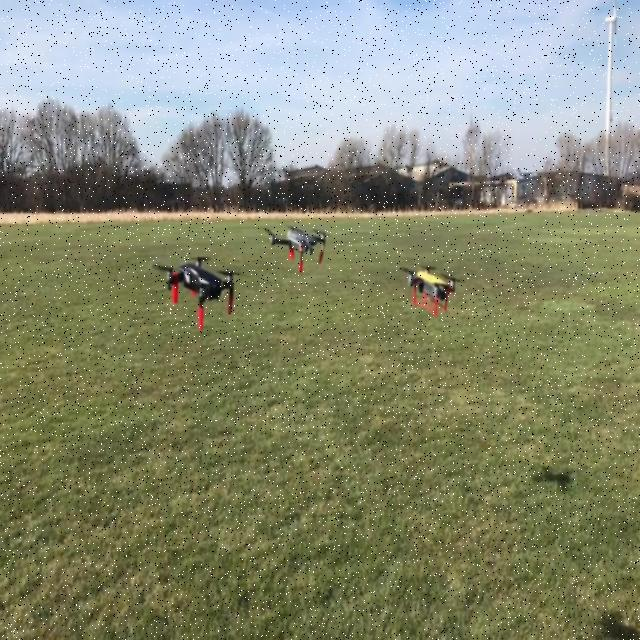UAV: (150, 256, 242, 332), (398, 264, 466, 317), (260, 226, 332, 274)
